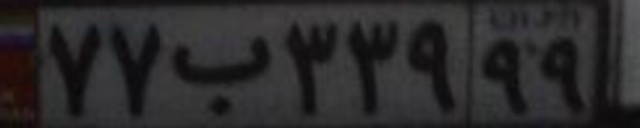3: (283, 21, 342, 118), (345, 19, 400, 116)
6: (45, 22, 105, 116), (108, 21, 167, 116)
9: (405, 20, 458, 114), (478, 36, 530, 116), (538, 36, 588, 117)
be: (170, 36, 275, 117)
